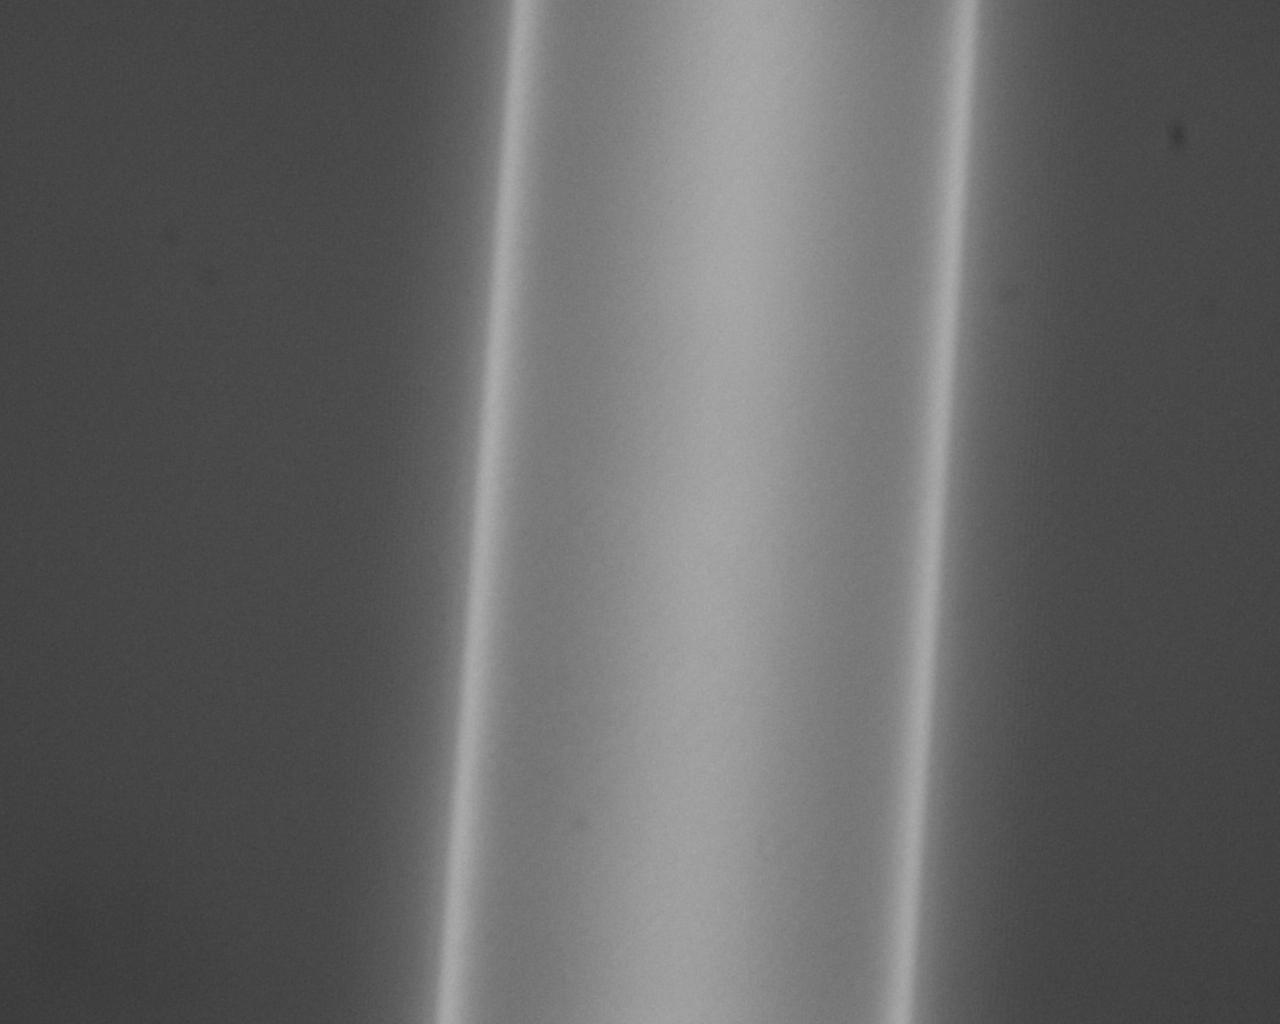fiber: (667, 327, 844, 1024), (192, 0, 410, 327)
